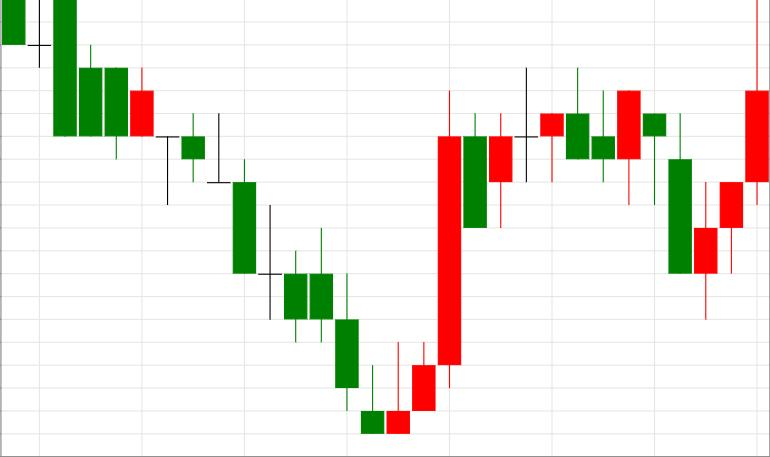hanging_man_fall: (387, 68, 564, 433)
inverse_hammer_rise: (181, 112, 409, 434), (181, 112, 384, 434)
three_white_soldiers_rise: (182, 90, 461, 434)
